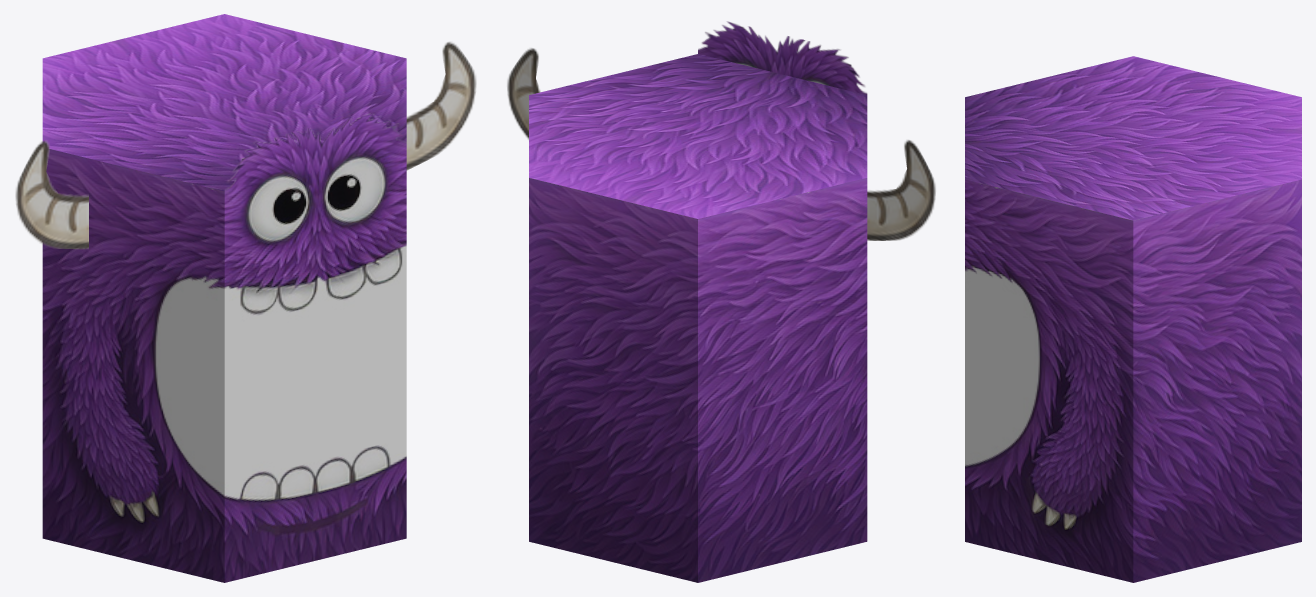
The model's file is Monster Cookies.glb.
The picture shows the model from 3 angles, left to right: view 1: azimuth 30°, elevation 25°; view 2: azimuth 150°, elevation 25°; view 3: azimuth 270°, elevation 25°; orthographic projection. The views are drawn at different scales.
Parts seen in each view (by area): view 1: Circle; view 2: Circle; view 3: Circle.
Boxes of the visible parts, x1,y1,x2,y2 form: Circle: (15, 14, 476, 582); Circle: (507, 21, 935, 582); Circle: (965, 56, 1301, 582).
Size of the model in its own units: 0.6789 by 0.608 by 0.4618.
2 materials, 2 textured.
